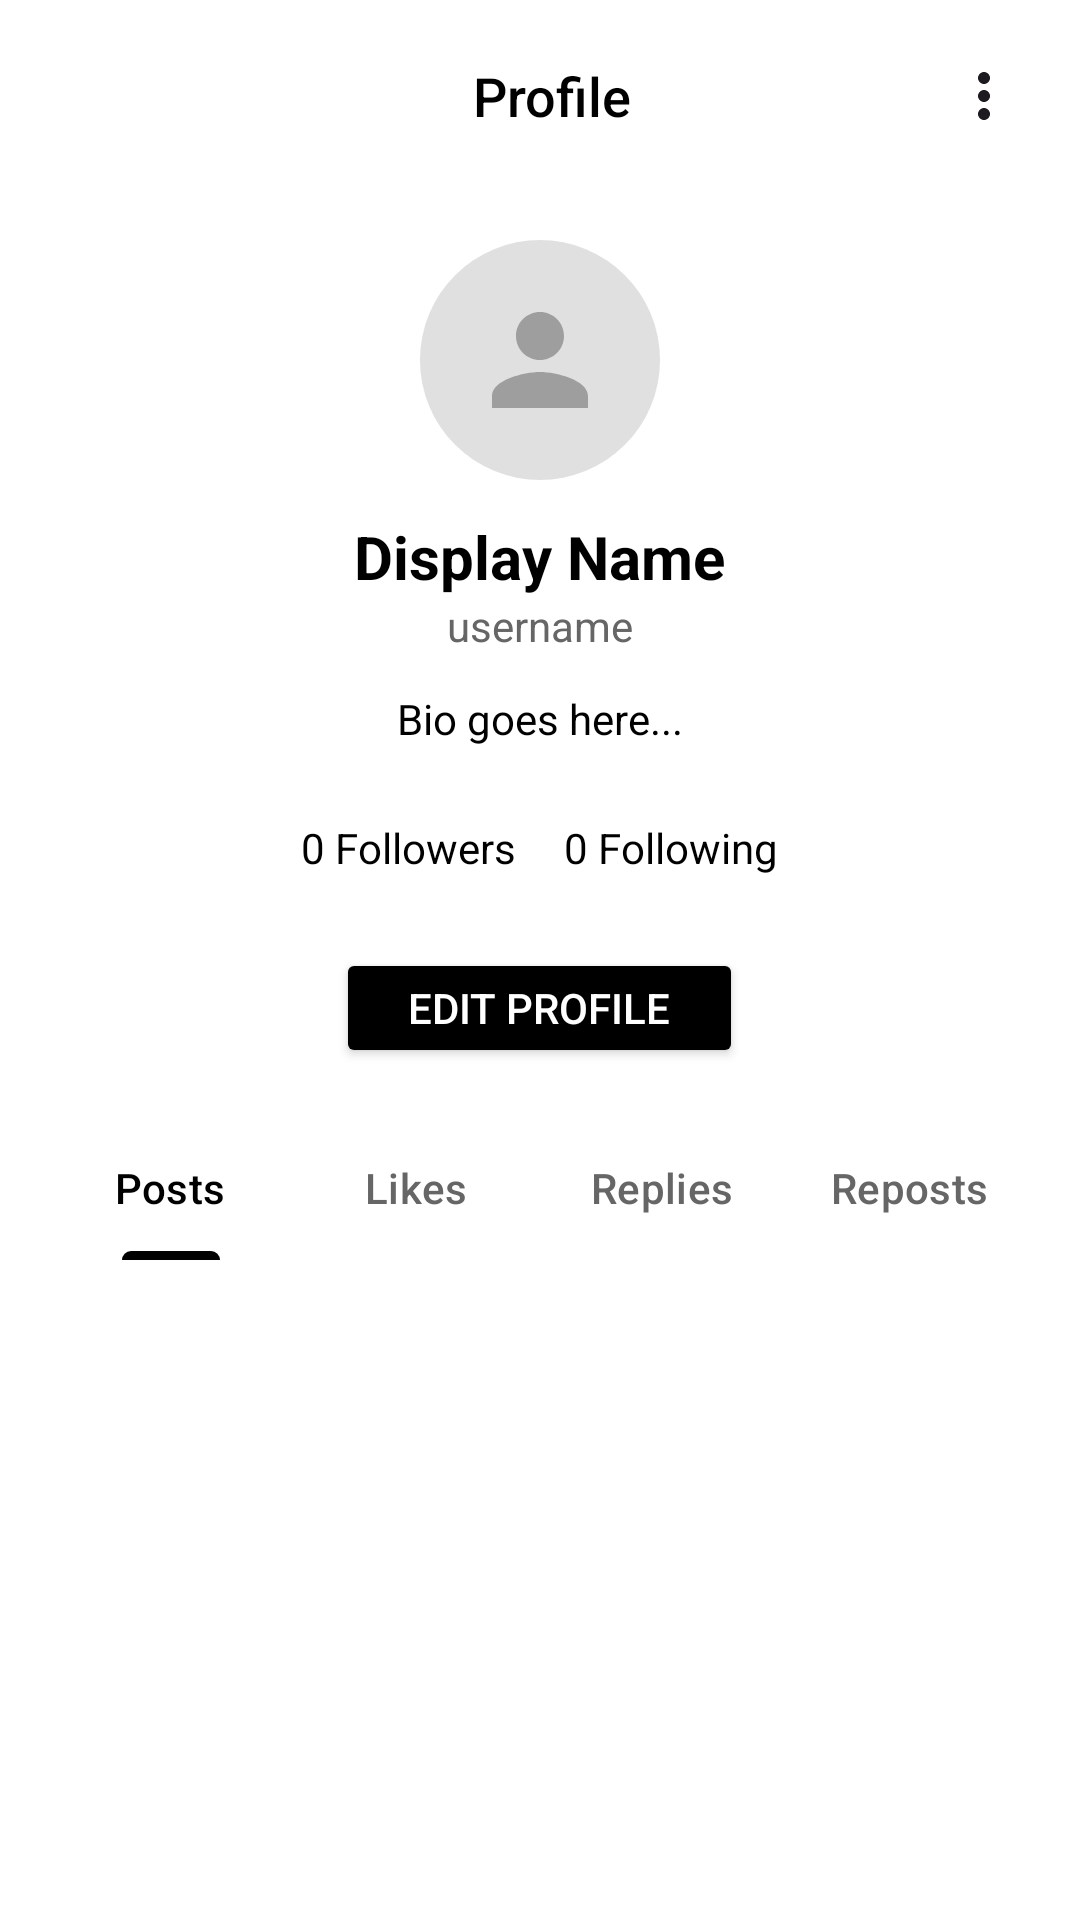

Where icons sit on this 1080*1920 app screen, as (x1, y1, x2, y2):
Settings Menu: (978, 72, 990, 120)
